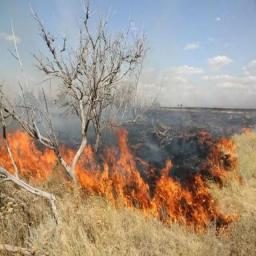Low smoke: (6, 30, 186, 175)
Medium fire: (0, 78, 255, 236)
